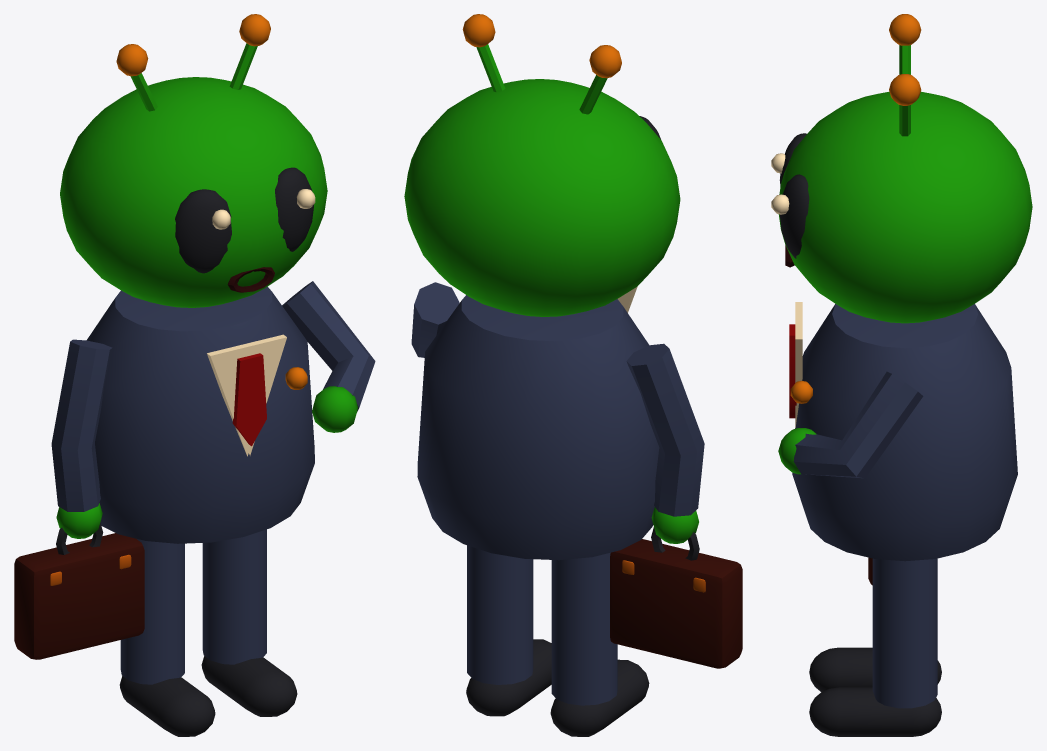
Rendered from AlienInvestor.obj.
The picture shows the model from 3 angles, left to right: view 1: azimuth 30°, elevation 25°; view 2: azimuth 150°, elevation 25°; view 3: azimuth 270°, elevation 25°; orthographic projection. The views are drawn at different scales.
Visible parts, largest first — view 1: AlienInvestor; view 2: AlienInvestor; view 3: AlienInvestor.
Part boxes in pixels (<box>): AlienInvestor: <box>14,14,375,736</box>; AlienInvestor: <box>404,14,742,736</box>; AlienInvestor: <box>771,14,1032,736</box>.
Size of the model in its own units: 2.59 by 5 by 1.77.
